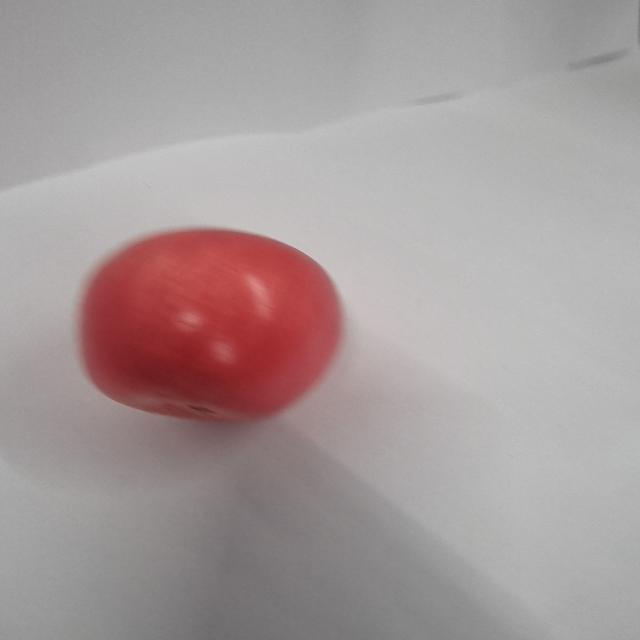apple: (77, 227, 343, 422)
